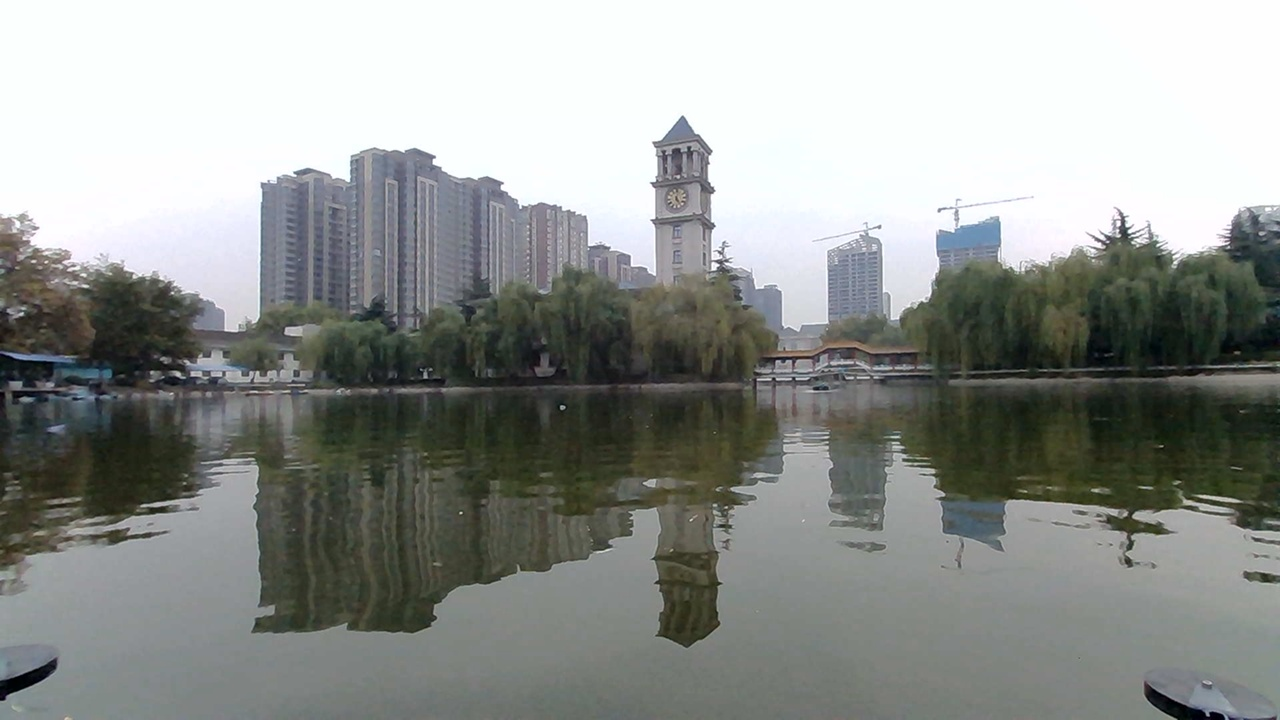bottle: (37, 418, 83, 450), (546, 390, 578, 417)
